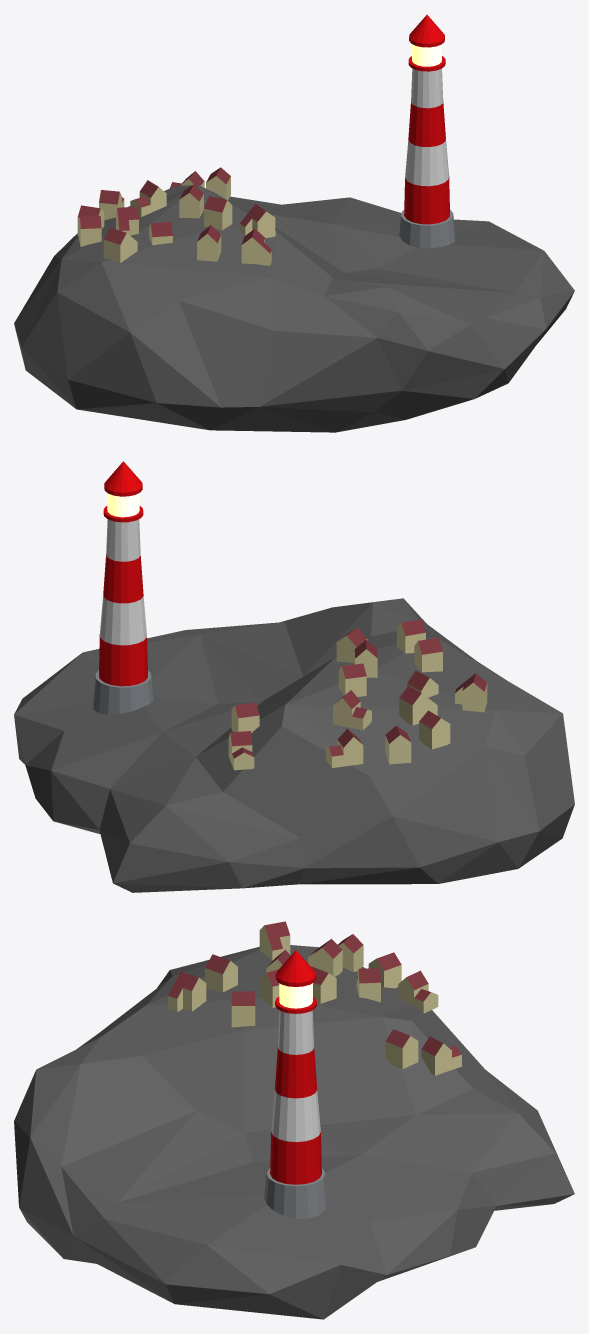
File: lighthouse.glb
3 views of the same model, one above another, from view 1: azimuth 30°, elevation 25°; view 2: azimuth 150°, elevation 25°; view 3: azimuth 270°, elevation 25° (orthographic). The views are drawn at different scales.
Visible parts, largest first — view 1: rock, Lighthouse, Cube.005, Cube.012, Cube.001, Cube.013, Cube.007, Cube.011, Cube, Cube.006, Cube.003, Cube.009 (+1 smaller); view 2: rock, Lighthouse, Cube.004, Cube.007, Cube.005, Cube.003, Cube.006, Cube.010, Cube.011, Cube.008, Cube, Cube.012 (+3 smaller); view 3: rock, Lighthouse, Cube.012, Cube.004, Cube.010, Cube.009, Cube.011, Cube.005, Cube.003, Cube.013, Cube.008, Cube.007 (+3 smaller).
Boxes of the visible parts, x1,y1,x2,y2 form: rock: (14,185,574,432); Lighthouse: (399,14,455,248); Cube.005: (103,227,137,263); Cube.012: (241,229,271,265); Cube.001: (204,196,232,230); Cube.013: (240,204,275,237); Cube.007: (130,180,166,216); Cube.011: (197,225,221,261); Cube: (179,184,203,218); Cube.006: (79,216,101,246); Cube.003: (116,206,138,235); Cube.009: (206,167,230,199); rock: (14,598,574,892); Lighthouse: (92,461,153,714); Cube.004: (325,728,363,767); Cube.007: (333,690,371,730); Cube.005: (455,673,487,712); Cube.003: (399,686,437,725); Cube.006: (419,710,450,749); Cube.010: (228,731,254,770); Cube.011: (414,637,442,672); Cube.008: (385,725,411,764); Cube: (338,663,366,696); Cube.012: (397,619,425,653); rock: (14,945,574,1319); Lighthouse: (264,950,327,1218); Cube.012: (168,971,206,1011); Cube.004: (398,970,438,1013); Cube.010: (421,1036,461,1075); Cube.009: (385,1029,418,1069); Cube.011: (205,954,237,992); Cube.005: (259,921,290,960); Cube.003: (308,938,342,976); Cube.013: (231,991,255,1027); Cube.008: (368,952,401,988); Cube.007: (356,968,380,1002).
Size of what is drawn, in the model's own units: 9.57 by 6 by 8.27.
